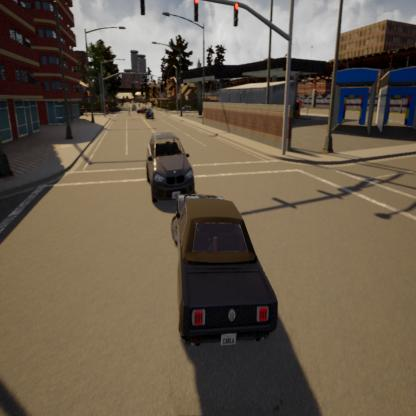Cars: (168, 188, 282, 358), (147, 128, 197, 207)
